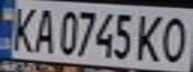0: (54, 7, 78, 56)
4: (93, 8, 118, 60)
5: (112, 10, 139, 61)
7: (75, 7, 96, 57)
A: (30, 4, 57, 55)
K: (133, 10, 169, 63), (6, 2, 42, 54)
O: (154, 11, 193, 64)
